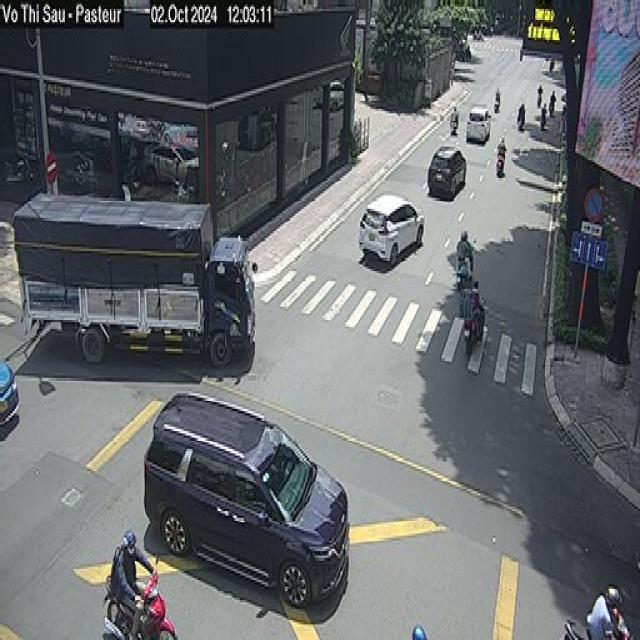car: (142, 385, 351, 612), (359, 189, 425, 267), (427, 144, 467, 202), (1, 351, 22, 433), (466, 99, 493, 146)
motorcycle: (101, 579, 173, 639), (562, 613, 636, 640), (462, 299, 486, 359), (453, 264, 472, 292), (496, 151, 506, 176), (451, 120, 459, 135), (493, 102, 502, 115)
person: (116, 527, 140, 640), (588, 582, 622, 640), (472, 276, 484, 334), (464, 230, 473, 274), (458, 224, 466, 266), (497, 138, 506, 166), (494, 87, 502, 107), (452, 105, 458, 123)
truck: (16, 195, 262, 357)
